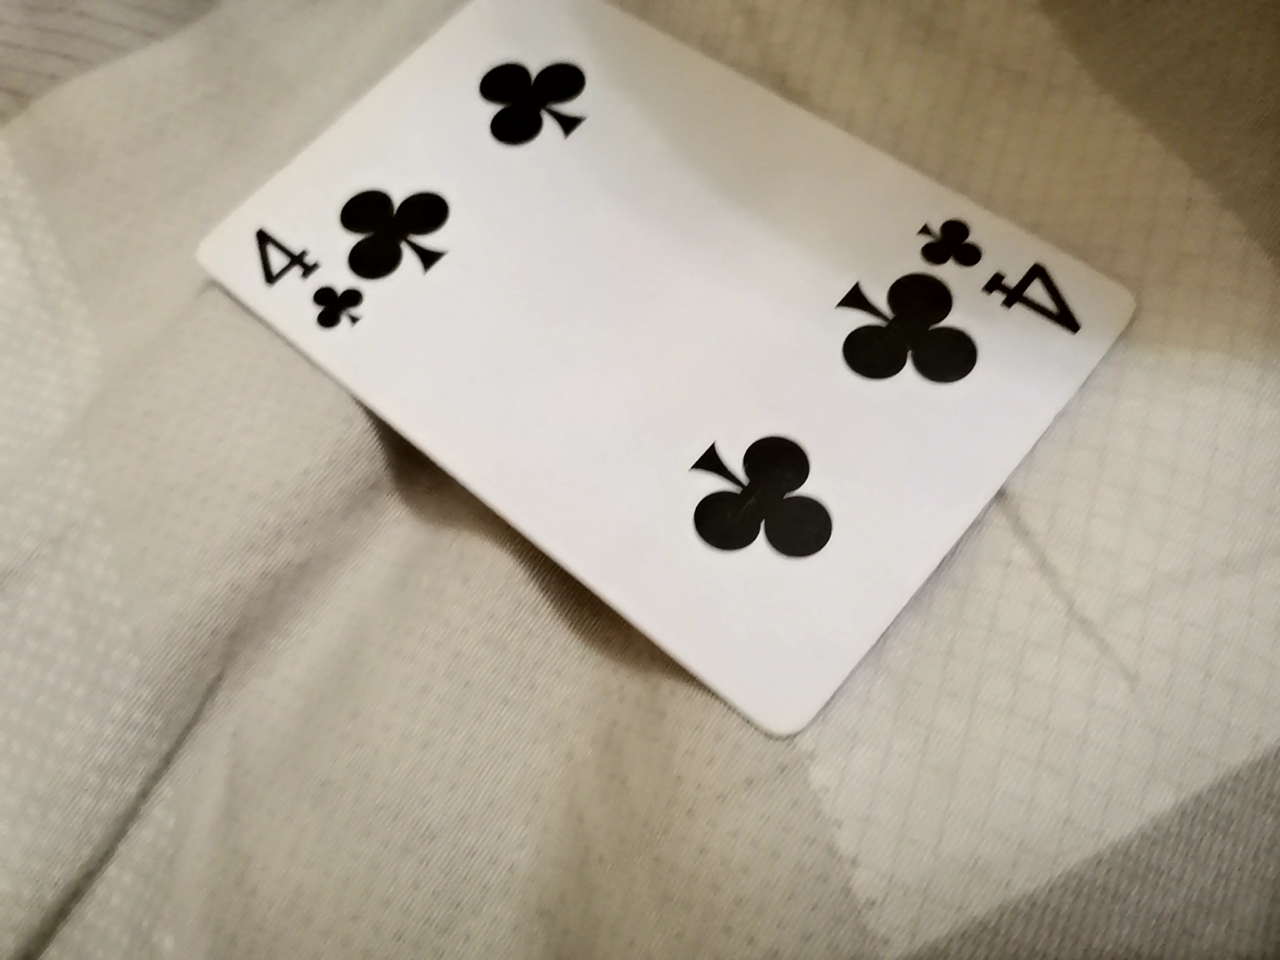mh 4: (173, 6, 1129, 763)
